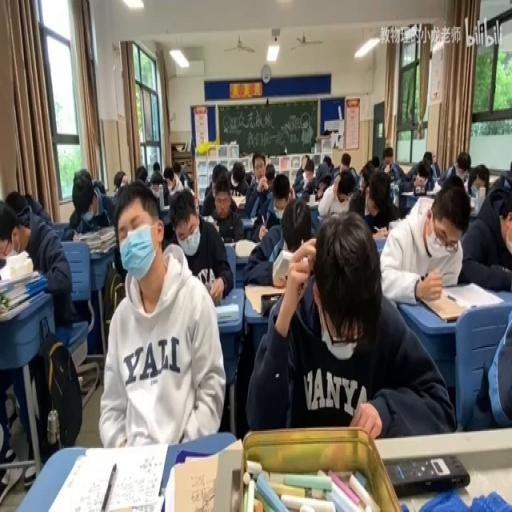calculator: (43, 444, 168, 509), (171, 453, 223, 512), (443, 282, 504, 308), (0, 287, 46, 320), (77, 225, 115, 253), (0, 268, 40, 294), (214, 302, 240, 322), (234, 236, 256, 258), (50, 222, 69, 239), (372, 226, 389, 239), (305, 194, 319, 208), (230, 194, 244, 208), (166, 184, 181, 196), (202, 215, 218, 226), (469, 202, 479, 218), (428, 182, 442, 193), (222, 240, 236, 249), (71, 232, 83, 240), (160, 203, 170, 212), (247, 216, 257, 223)
paper: (250, 209, 452, 440), (0, 194, 73, 486), (169, 186, 232, 302), (464, 291, 510, 431), (459, 172, 512, 292), (66, 168, 112, 234), (357, 168, 402, 233), (315, 165, 358, 219), (244, 164, 275, 230), (400, 150, 438, 198), (7, 188, 50, 226), (440, 149, 473, 188), (224, 158, 250, 199), (202, 162, 227, 199), (146, 168, 170, 206), (292, 155, 314, 195), (378, 146, 402, 180), (490, 184, 510, 214), (173, 158, 192, 188), (466, 166, 482, 196), (498, 162, 512, 188), (74, 166, 91, 184), (112, 171, 126, 189), (134, 165, 148, 183), (92, 178, 106, 193), (340, 152, 350, 171), (347, 166, 357, 185), (422, 151, 431, 168), (370, 155, 379, 171), (264, 175, 274, 189), (322, 155, 331, 169), (288, 184, 295, 199), (462, 171, 469, 186), (152, 160, 161, 170), (358, 175, 364, 189), (113, 184, 117, 194)
person: (386, 454, 470, 496), (260, 292, 282, 316)
